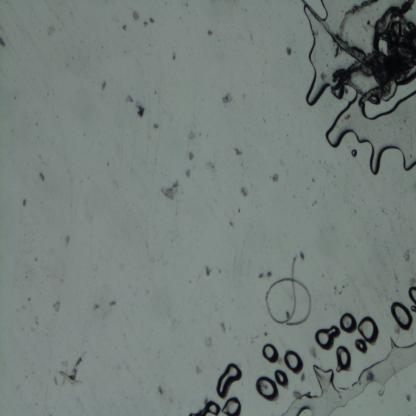Air bubble: (280, 336, 416, 414), (326, 95, 416, 176), (295, 11, 334, 108), (217, 363, 240, 400), (356, 314, 381, 346), (389, 301, 414, 332), (255, 375, 280, 401), (315, 324, 340, 350), (189, 400, 222, 416), (335, 346, 353, 374), (284, 350, 304, 374), (220, 396, 242, 415), (339, 312, 357, 335), (263, 341, 279, 364), (275, 370, 289, 389), (354, 337, 369, 353), (407, 286, 416, 304), (351, 148, 358, 158)
Background material: (162, 180, 178, 200), (136, 100, 146, 118), (51, 299, 62, 314), (202, 336, 213, 351), (143, 16, 156, 28), (223, 92, 233, 104), (234, 144, 244, 156), (285, 44, 294, 57), (203, 266, 213, 277), (240, 186, 250, 196), (131, 10, 140, 21), (20, 198, 29, 208), (38, 173, 46, 184), (188, 150, 195, 162), (258, 272, 272, 278), (100, 80, 106, 92), (126, 95, 135, 103), (93, 302, 100, 312), (155, 385, 162, 395), (272, 173, 278, 184), (171, 50, 177, 61), (0, 38, 6, 48), (109, 300, 117, 307), (185, 170, 191, 178), (207, 30, 213, 38)
Cellulose filter fibre: (309, 2, 416, 104), (52, 349, 90, 388)
Microfibre: (265, 254, 313, 326)
